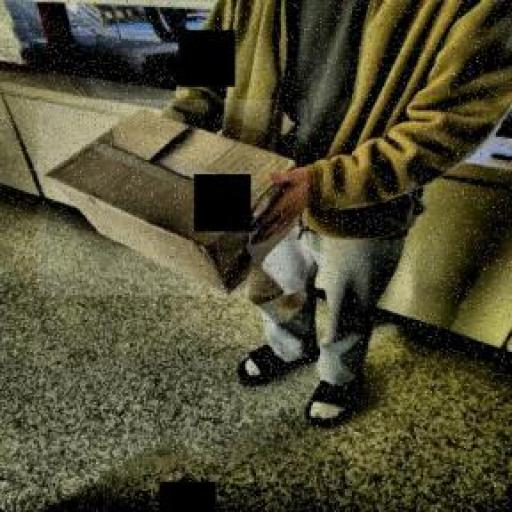box: (38, 99, 308, 296)
